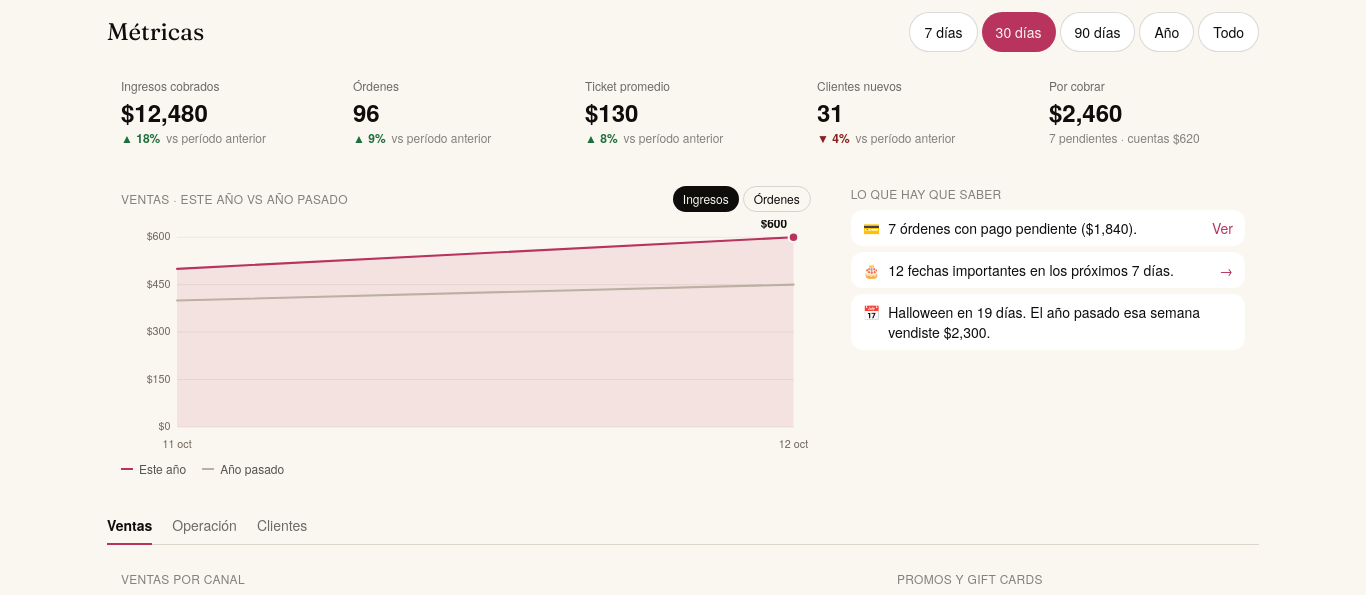
Scenario: MetricsView › opens Ventas first and switches tabs
The width and height of the screenshot is (1366, 595).
Click the tab "Operación".
click(205, 526)  # box top-left (172, 507), bottom-right (237, 545)
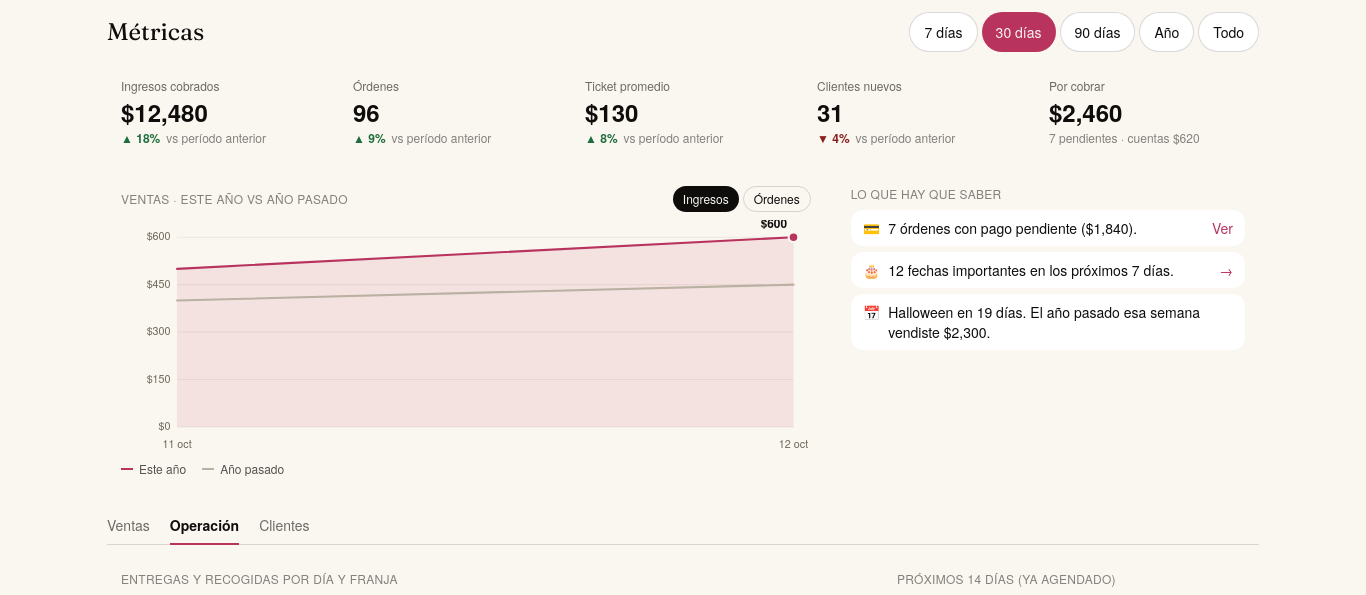
Now the text "Entregas y recogidas por día y franja" is shown, box top-left (121, 570), bottom-right (398, 587)
Click the tab "Clientes".
click(284, 526)  # box top-left (259, 507), bottom-right (310, 545)
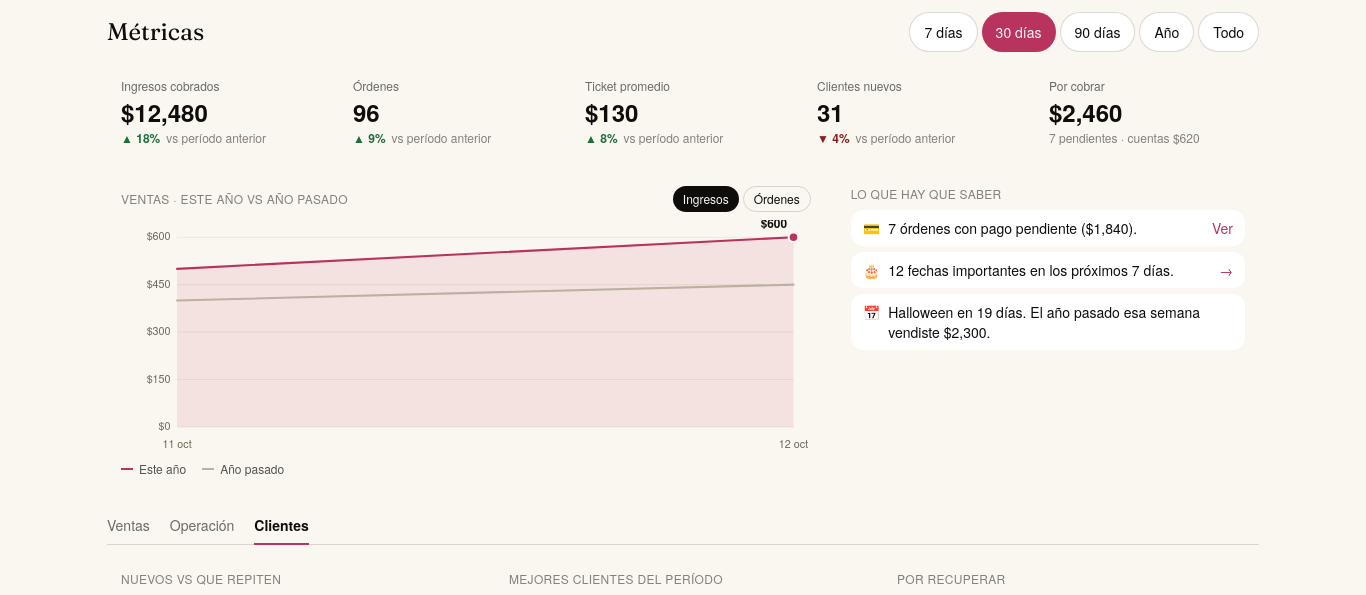
Now the text "Mejores clientes del período" is shown, box top-left (509, 570), bottom-right (723, 587)
